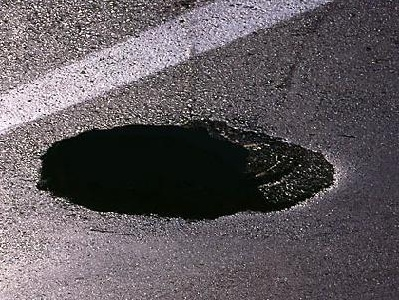pothole: (31, 117, 342, 227)
